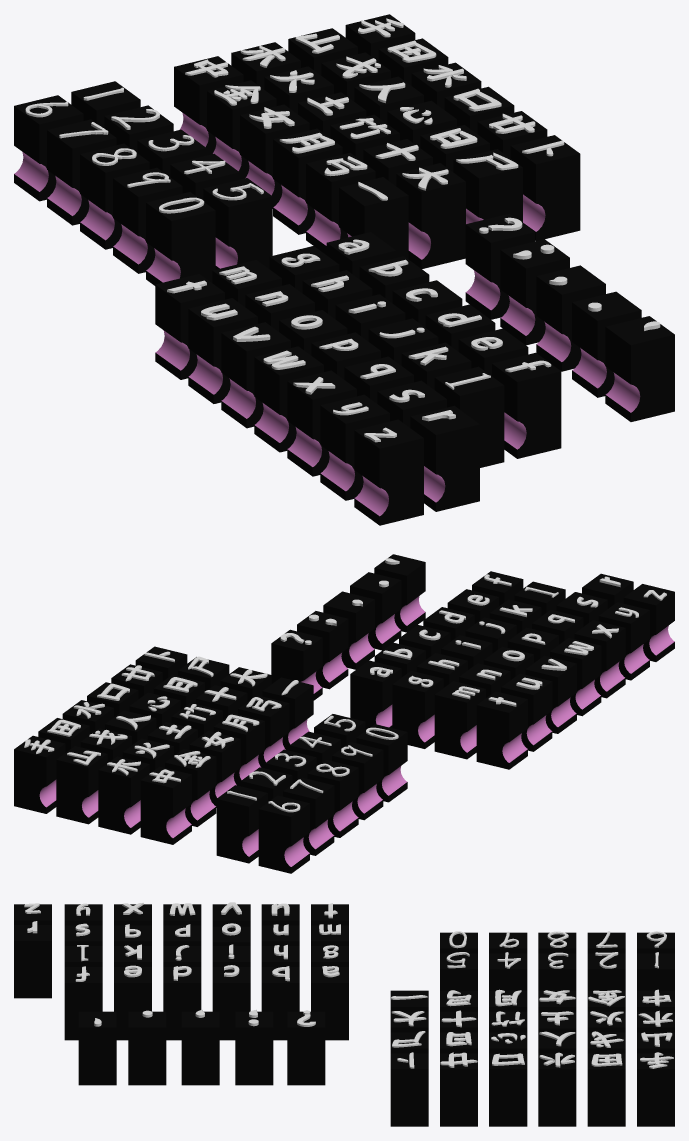
Rendered from Word.fbx.
3 views of the same model, one above another, from view 1: azimuth 30°, elevation 25°; view 2: azimuth 150°, elevation 25°; view 3: azimuth 270°, elevation 25° (orthographic). The views are drawn at different scales.
Visible parts, largest first — view 1: NewPunctuationWord5, NewEnglishWord25, NewEnglishWord6, NewChineseWord6, NewEnglishWord26, NewChineseWord18, NewNumberWord10, NewNumberWord5, NewPunctuationWord3, NewPunctuationWord2, NewPunctuationWord4, NewPunctuationWord1 (+53 smaller); view 2: NewEnglishWord19, NewNumberWord6, NewChineseWord19, NewNumberWord1, NewEnglishWord13, NewChineseWord1, NewChineseWord24, NewChineseWord13, NewEnglishWord7, NewEnglishWord1, NewPunctuationWord1, NewPunctuationWord3 (+53 smaller); view 3: NewPunctuationWord5, NewPunctuationWord3, NewPunctuationWord4, NewPunctuationWord2, NewChineseWord6, NewPunctuationWord1, NewEnglishWord26, NewChineseWord3, NewChineseWord4, NewChineseWord2, NewChineseWord1, NewChineseWord5 (+55 smaller).
Part boxes in pixels (x1,y1,x2,y2): NewPunctuationWord5: (605,316,674,421); NewEnglishWord25: (354,419,423,525); NewEnglishWord6: (492,352,561,458); NewChineseWord6: (510,135,580,240); NewEnglishWord26: (410,405,479,511); NewChineseWord18: (396,163,465,268); NewNumberWord10: (146,192,215,285); NewNumberWord5: (203,178,272,269); NewPunctuationWord3: (536,265,605,371); NewPunctuationWord2: (500,239,569,345); NewPunctuationWord4: (572,291,641,397); NewPunctuationWord1: (465,213,534,319); NewEnglishWord19: (476,691,527,769); NewNumberWord6: (258,795,309,873); NewChineseWord19: (140,766,191,844); NewNumberWord1: (216,785,267,863); NewEnglishWord13: (434,681,485,759); NewChineseWord1: (14,735,65,813); NewChineseWord24: (56,746,107,824); NewChineseWord13: (98,756,149,834); NewEnglishWord7: (392,670,443,748); NewEnglishWord1: (350,660,401,730); NewPunctuationWord1: (271,629,322,700); NewPunctuationWord3: (323,591,374,669); NewPunctuationWord5: (78,1011,116,1085); NewPunctuationWord3: (181,1011,219,1085); NewPunctuationWord4: (128,1011,166,1085); NewPunctuationWord2: (235,1011,273,1085); NewChineseWord6: (390,1053,428,1126); NewPunctuationWord1: (287,1011,325,1085); NewEnglishWord26: (14,925,51,998); NewChineseWord3: (538,1053,576,1126); NewChineseWord4: (489,1053,527,1126); NewChineseWord2: (587,1053,625,1126); NewChineseWord1: (637,1053,674,1126); NewChineseWord5: (440,1053,477,1126).
Size of the model in its own units: 39.6 by 6.96 by 67.07.
